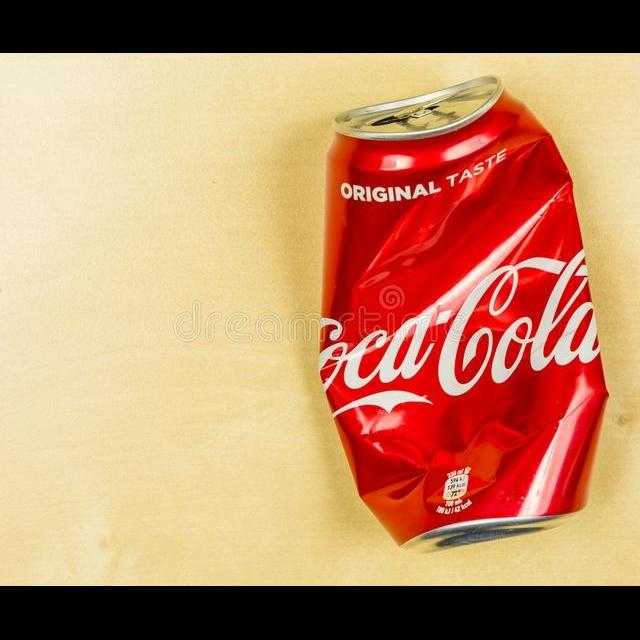metal: (304, 68, 623, 566)
